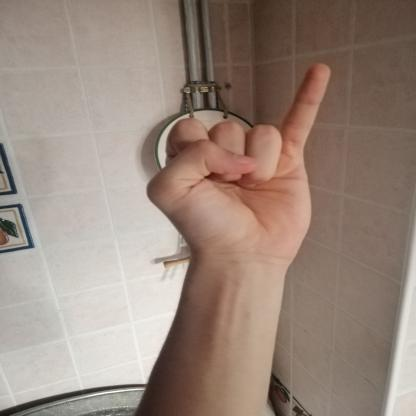MEEM: (125, 54, 346, 276)
